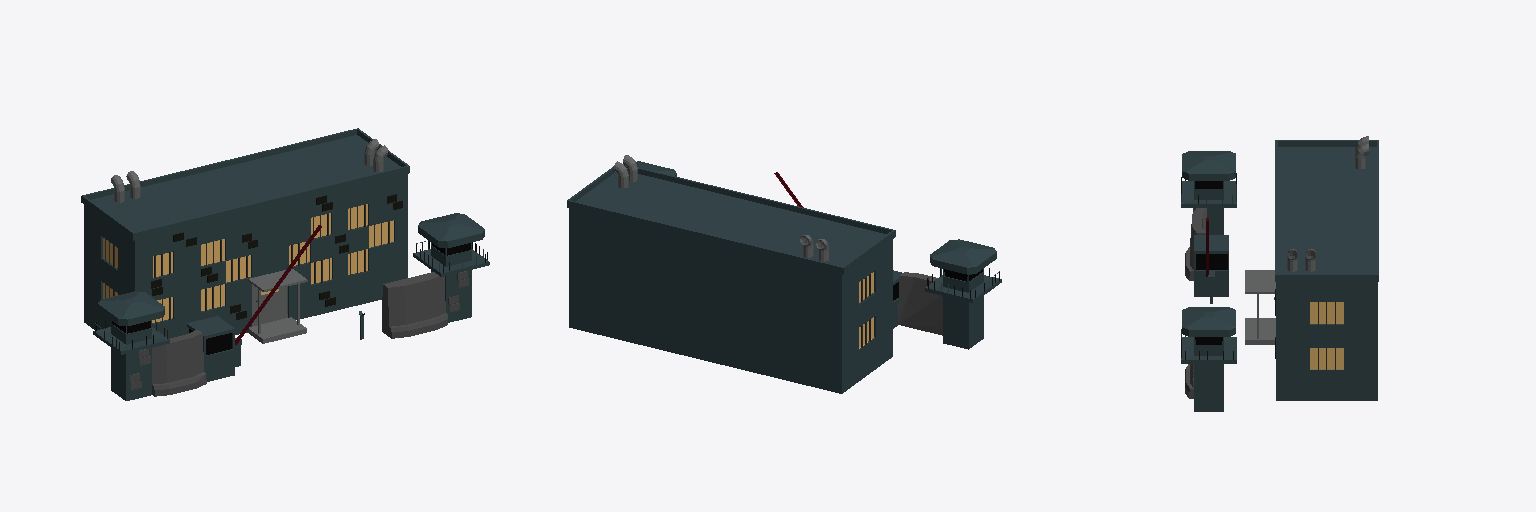
3 views of the same model, side by side, from view 1: azimuth 30°, elevation 25°; view 2: azimuth 150°, elevation 25°; view 3: azimuth 270°, elevation 25° (orthographic).
Parts seen in each view (by area): view 1: School, Prison_tower.001, Prison_tower, Fence, Fence.001, Checkpoint; view 2: School, Prison_tower.001, Fence.001; view 3: School, Prison_tower, Prison_tower.001, Checkpoint, Fence.001.
Boxes of the visible parts, box(x1,y1,x2,y2) form: School: box(81, 128, 409, 343); Prison_tower.001: box(93, 291, 169, 400); Prison_tower: box(413, 213, 489, 322); Fence: box(382, 272, 447, 338); Fence.001: box(152, 330, 206, 396); Checkpoint: box(187, 225, 364, 381); School: box(567, 165, 895, 393); Prison_tower.001: box(925, 239, 1001, 349); Fence.001: box(898, 272, 942, 335); School: box(1245, 140, 1378, 400); Prison_tower: box(1181, 307, 1236, 411); Prison_tower.001: box(1181, 151, 1236, 234); Checkpoint: box(1194, 218, 1228, 303); Fence.001: box(1185, 208, 1206, 280).
Bounding box in the file's own units: 56.61 × 21.27 × 26.34.
1 materials, 1 textured.